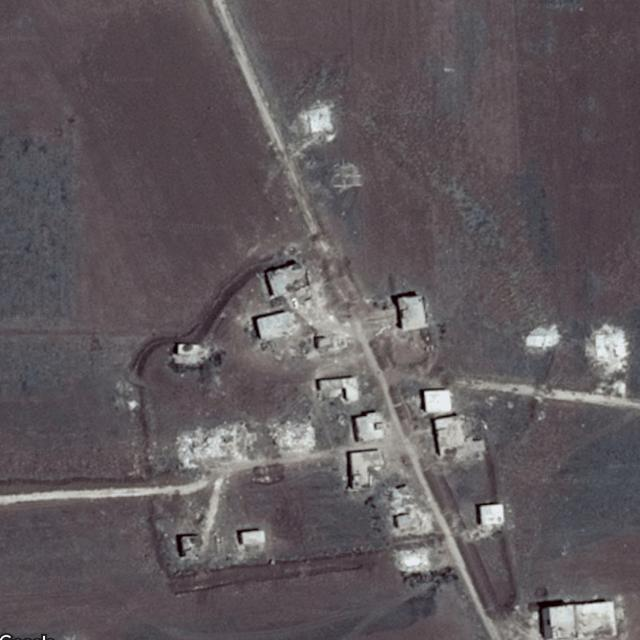damaged_building: (175, 420, 262, 470), (584, 322, 628, 378), (388, 483, 434, 534), (265, 415, 316, 454), (388, 546, 442, 575), (301, 100, 335, 140), (522, 325, 562, 347)
